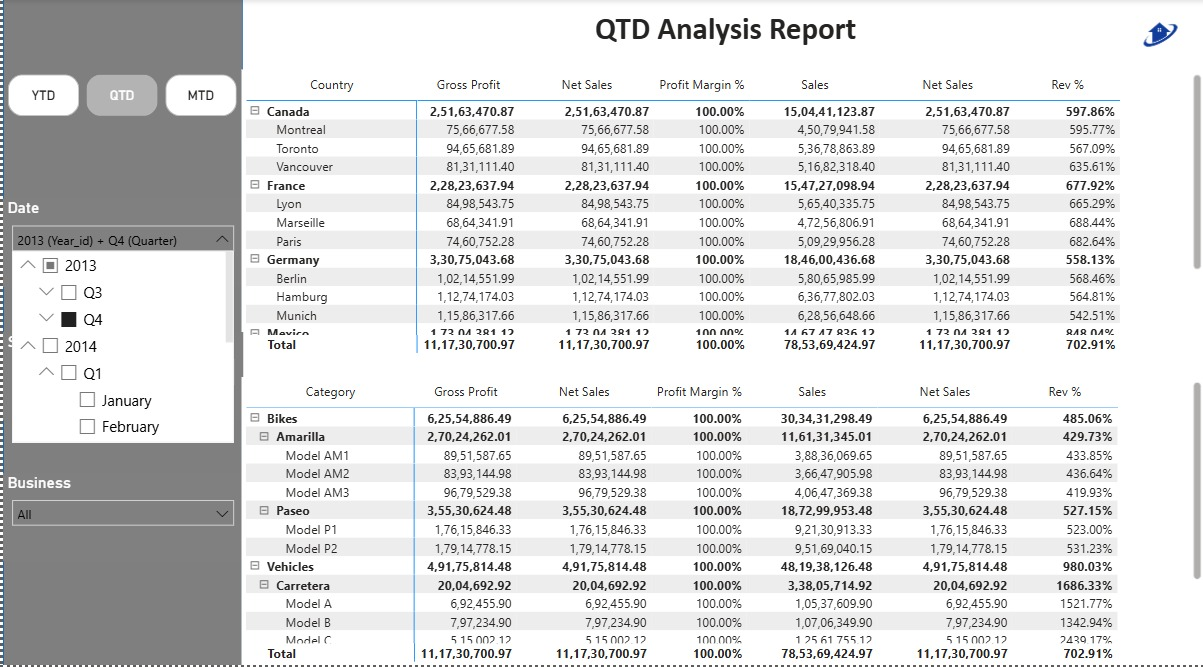

What the dashboard file says about the page in this screenshot:
{"tool":"powerbi","page":{"name":"QTD","canvas":[1280,720],"ordinal":2},"visuals":[{"type":"shape","box":[0,0,245,720],"z":0},{"type":"advancedSlicerVisual","fields":{"Values":["Time.Slicer"]},"box":[5,60,235,62.5],"z":1000},{"type":"slicer","title":"Date","fields":{"Values":["Dim_Date.Year_id","Dim_Date.Quarter","Dim_Date.Month_Name"]},"box":[5,170,235,292.5],"z":1000,"group":"g1"},{"type":"pivotTable","fields":{"Rows":["Dim-Location.Country","Dim-Location.City"],"Values":["Measures(1).Gross Profit","Measures(1).Selected Net Sales","Measures(1).Profit Margin%","Measures(1).Net Sales","Measures(1).Selected Net Sales","Measures(1).Revenue%"]},"box":[253.1,387.6,997.8,327.7],"z":2000},{"type":"actionButton","box":[317.9,0,100.3,40.4],"z":3000},{"type":"slicer","fields":{"Values":["Fact-Finance.Business"]},"box":[5,485,235,80],"z":4000},{"type":"pivotTable","fields":{"Rows":["Dim-Product.Category","Dim-Product.Product","Dim-Product.SubProduct"],"Values":["Measures(1).Gross Profit","Measures(1).Selected Net Sales","Measures(1).Profit Margin%","Measures(1).Net Sales","Measures(1).Selected Net Sales","Measures(1).Revenue%"]},"box":[253.1,59.9,1010.1,327.7],"z":5000},{"type":"shape","box":[253.1,0,891.4,59.9],"z":6000},{"type":"group","id":"g1","title":"Group 1","box":[5,170,235,292.5],"z":7000},{"type":"cardVisual","fields":{"Data":["Measures(1).Selected Date Header"]},"box":[5,196.2,235,27.5],"z":7001,"group":"g1"},{"type":"image","box":[1208.8,11.2,55,48.8],"z":8000}]}

Visuals, with their boxes on the page's 1280x720 design canvas (x1, y1, x2, y2). These are canvas units, not pixel positions in the 1203x667 screenshot, which may show the page scaled, cropped or inside an application window:
shape: (0, 0, 245, 720)
advancedSlicerVisual - Time.Slicer: (5, 60, 240, 122)
"Date" slicer: (5, 170, 240, 462)
pivotTable - Dim-Location.Country x Dim-Location.City: (253, 388, 1251, 715)
actionButton: (318, 0, 418, 40)
slicer - Fact-Finance.Business: (5, 485, 240, 565)
pivotTable - Dim-Product.Category x Dim-Product.Product: (253, 60, 1263, 388)
shape: (253, 0, 1144, 60)
"Group 1" group: (5, 170, 240, 462)
cardVisual - Measures(1).Selected Date Header: (5, 196, 240, 224)
image: (1209, 11, 1264, 60)
